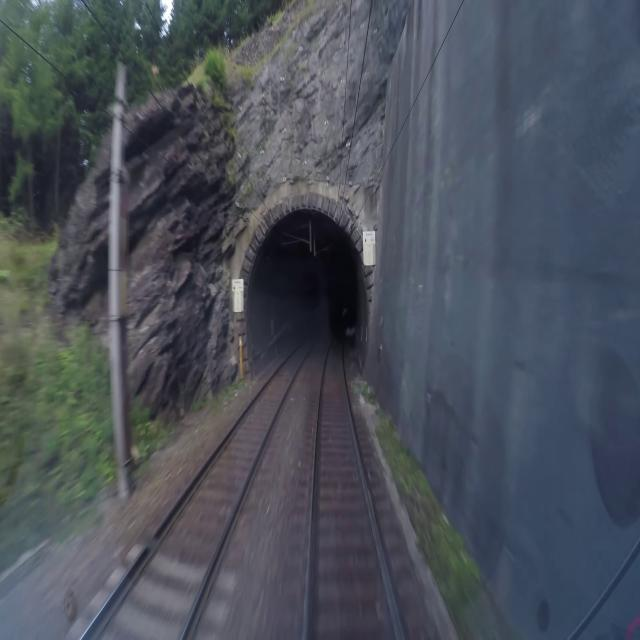rail-track: (84, 332, 316, 639), (310, 335, 401, 639)
